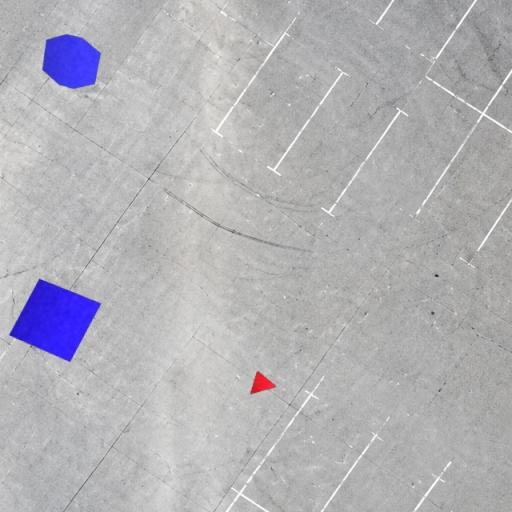BLUE_SQUARE: (8, 278, 102, 363)
